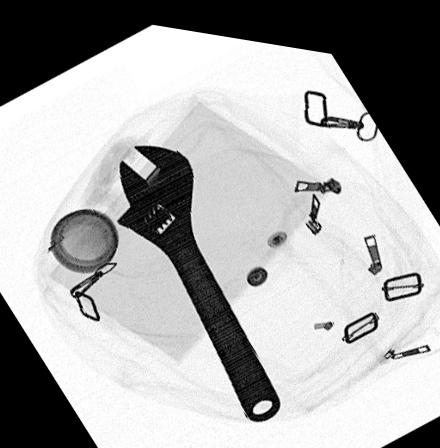Wrench: (114, 140, 282, 416)
